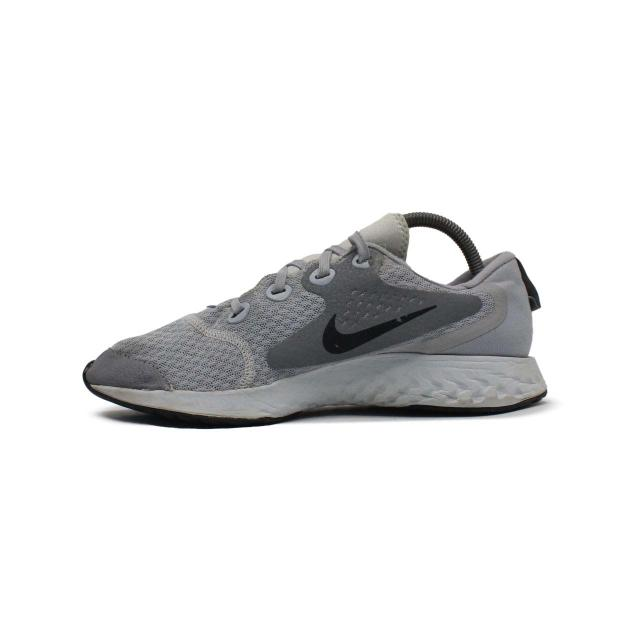heel: (499, 256, 538, 351)
midsole: (83, 352, 546, 422)
uppersole: (88, 213, 516, 393)
